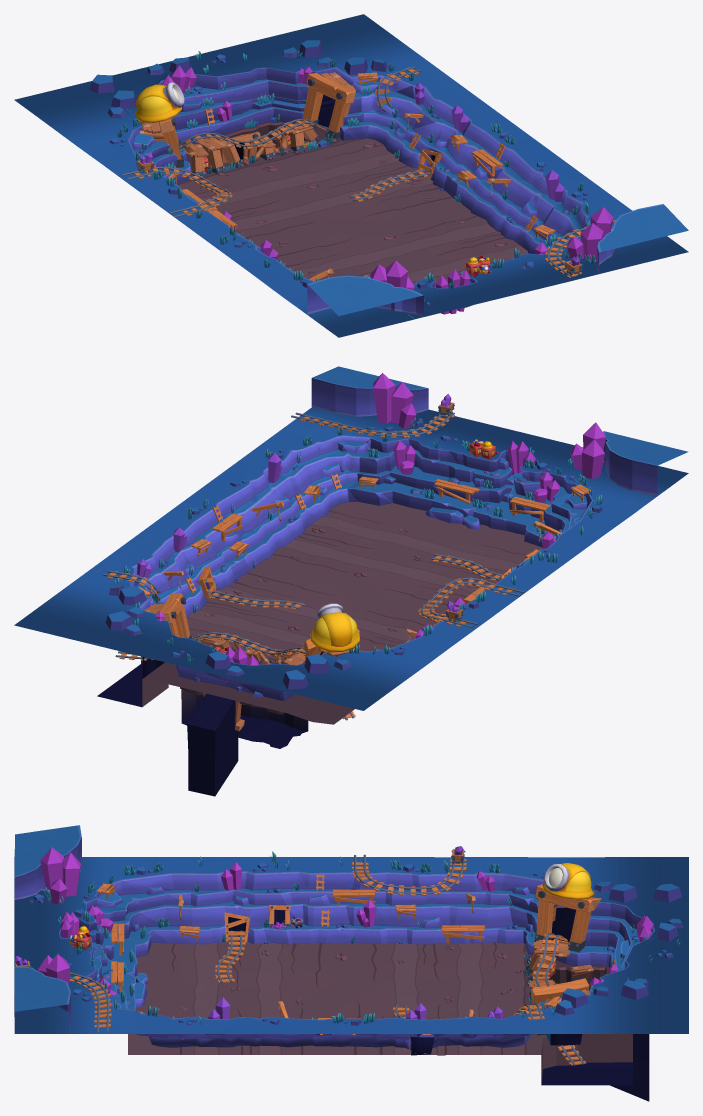
File: mine.glb
3 views of the same model, one above another, from view 1: azimuth 30°, elevation 25°; view 2: azimuth 150°, elevation 25°; view 3: azimuth 270°, elevation 25° (orthographic). The views are drawn at different scales.
Visible parts, largest first — view 1: bgr_mine_ground, bgr_mine_right, bgr_mine_left, bgr_mine_top, bgr_mine_bottom_props, bgr_mine_bottom, bgr_mine_right_props, bgr_mine_top_props_013, bgr_mine_left_props, Cube_000, mike_helmet_002, Cube_017 (+3 smaller); view 2: bgr_mine_ground, bgr_mine_right, bgr_mine_bottom, bgr_mine_left, bgr_mine_bottom_props, bgr_mine_top, bgr_mine_right_props, bgr_mine_left_props, bgr_mine_top_props_013, mike_helmet_002, track_bottom, bgr_mine_top_props (+2 smaller); view 3: bgr_mine_ground, bgr_mine_left, bgr_mine_right, bgr_mine_bottom_props, bgr_mine_top, bgr_mine_bottom, bgr_mine_left_props, bgr_mine_right_props, bgr_mine_top_props_013, Cube_007, mike_helmet_002, Cube_017 (+3 smaller).
Boxes of the visible parts, box(x1,y1,x2,y2) form: bgr_mine_ground: box(177, 120, 527, 284); bgr_mine_right: box(289, 14, 688, 270); bgr_mine_left: box(14, 81, 414, 337); bgr_mine_top: box(90, 32, 368, 183); bgr_mine_bottom_props: box(307, 204, 688, 316); bgr_mine_bottom: box(405, 239, 613, 319); bgr_mine_right_props: box(357, 59, 590, 240); bgr_mine_top_props_013: box(89, 40, 322, 128); bgr_mine_left_props: box(107, 107, 333, 287); Cube_000: box(301, 73, 355, 139); mike_helmet_002: box(135, 82, 184, 122); Cube_017: box(178, 118, 328, 151); bgr_mine_ground: box(97, 501, 542, 796); bgr_mine_right: box(14, 407, 391, 643); bgr_mine_bottom: box(347, 409, 583, 547); bgr_mine_left: box(288, 462, 688, 710); bgr_mine_bottom_props: box(311, 366, 688, 534); bgr_mine_top: box(89, 602, 335, 700); bgr_mine_right_props: box(103, 427, 375, 612); bgr_mine_left_props: box(334, 474, 602, 670); bgr_mine_top_props_013: box(105, 611, 308, 689); mike_helmet_002: box(310, 603, 359, 651); track_bottom: box(291, 412, 454, 437); bgr_mine_top_props: box(118, 586, 329, 673); bgr_mine_ground: box(128, 930, 649, 1101); bgr_mine_left: box(14, 852, 688, 944); bgr_mine_right: box(14, 995, 688, 1055); bgr_mine_bottom_props: box(14, 825, 146, 1031); bgr_mine_top: box(524, 895, 688, 1045); bgr_mine_bottom: box(14, 895, 151, 1043); bgr_mine_left_props: box(84, 851, 613, 943); bgr_mine_right_props: box(81, 996, 574, 1050); bgr_mine_top_props_013: box(590, 883, 683, 1000); Cube_007: box(534, 884, 601, 952); mike_helmet_002: box(542, 863, 593, 899); Cube_017: box(532, 933, 586, 1065).
Size of what is drawn, in the model's own units: 149 by 75.44 by 238.
Materials: 14 (14 with a texture image).
